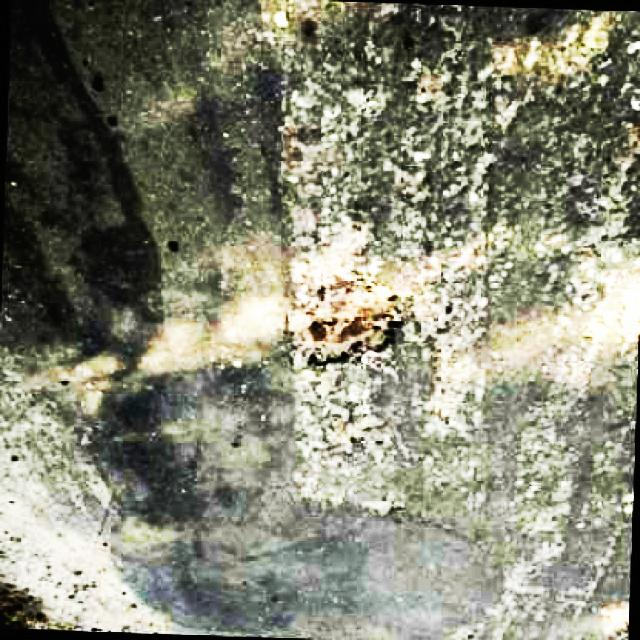pothole: (300, 274, 409, 369)
